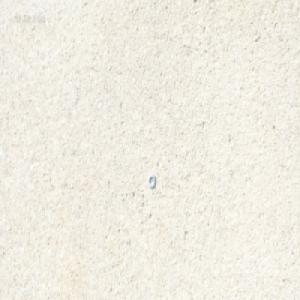Washer: (148, 174, 156, 189)
